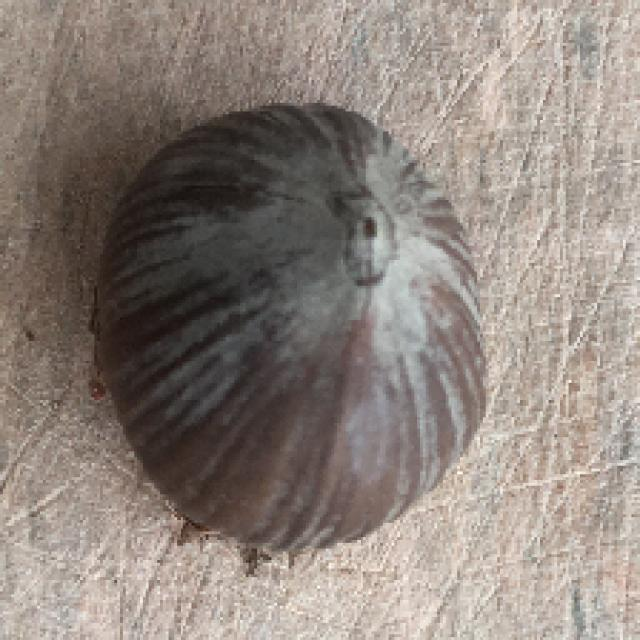damagedHazelnut: (78, 93, 505, 579)
